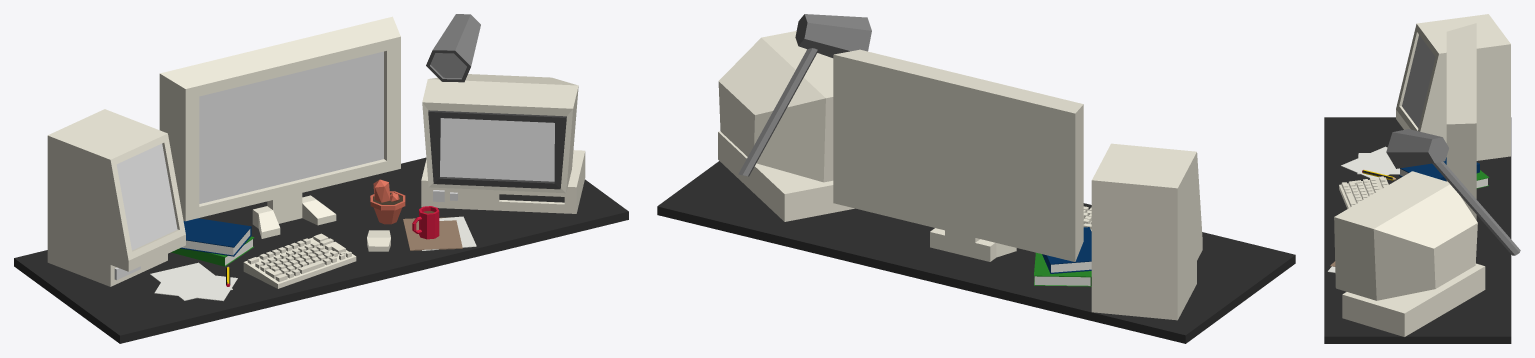
Rendered from menuinicio.fbx.
The picture shows the model from 3 angles, left to right: view 1: azimuth 30°, elevation 25°; view 2: azimuth 150°, elevation 25°; view 3: azimuth 270°, elevation 25°; orthographic projection. The views are drawn at different scales.
Parts seen in each view (by area): view 1: Ordenador2, Mesa, Ordenador3, Ordenador1, Teclado, Libros, Flexo, Folio, Carpeta, Plantita, Taza, Ratón; view 2: Ordenador2, Mesa, Ordenador1, Ordenador3, Flexo, Libros; view 3: Ordenador3, Mesa, Ordenador1, Ordenador2, Flexo, Folio, Teclado, Libros.
Boxes of the visible parts, left/top/right/bottom form: Ordenador2: left=159, top=16, right=400, bottom=238; Mesa: left=14, top=157, right=628, bottom=343; Ordenador3: left=421, top=74, right=585, bottom=213; Ordenador1: left=47, top=109, right=185, bottom=286; Teclado: left=243, top=233, right=356, bottom=288; Libros: left=171, top=218, right=254, bottom=266; Flexo: left=426, top=14, right=480, bottom=82; Folio: left=150, top=262, right=237, bottom=301; Carpeta: left=403, top=216, right=476, bottom=250; Plantita: left=370, top=179, right=405, bottom=224; Taza: left=412, top=206, right=439, bottom=239; Ratón: left=367, top=230, right=390, bottom=251; Ordenador2: left=833, top=49, right=1083, bottom=261; Mesa: left=657, top=161, right=1295, bottom=343; Ordenador1: left=1091, top=143, right=1202, bottom=320; Ordenador3: left=718, top=31, right=854, bottom=221; Flexo: left=738, top=14, right=871, bottom=176; Libros: left=1034, top=227, right=1091, bottom=286; Ordenador3: left=1334, top=171, right=1485, bottom=336; Mesa: left=1324, top=117, right=1511, bottom=343; Ordenador1: left=1396, top=14, right=1510, bottom=160; Ordenador2: left=1446, top=23, right=1476, bottom=220; Flexo: left=1386, top=129, right=1520, bottom=255; Folio: left=1341, top=146, right=1399, bottom=178; Teclado: left=1339, top=176, right=1388, bottom=208; Libros: left=1399, top=157, right=1489, bottom=188.
Size of the model in its own units: 11152 by 3848 by 4205.
